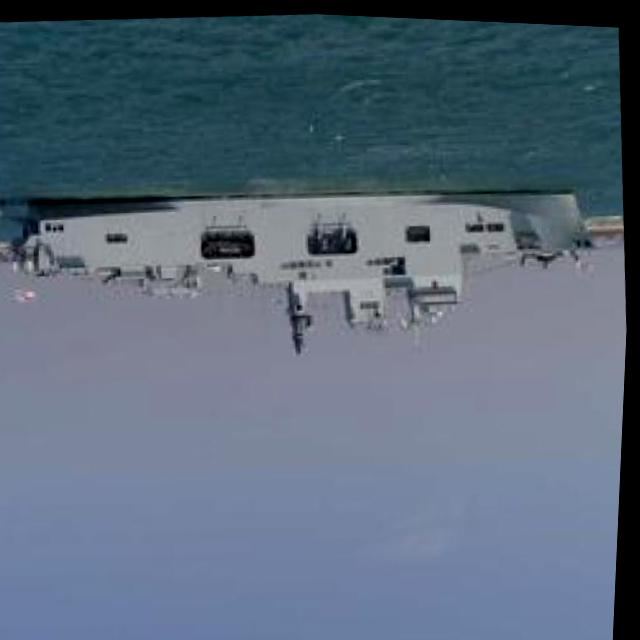ship2: (19, 183, 596, 345)
